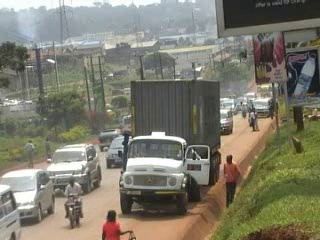Car: (0, 165, 58, 222), (45, 141, 102, 199), (103, 133, 130, 170), (95, 126, 122, 153)
Motorcycle: (59, 177, 87, 229), (237, 104, 248, 119)
